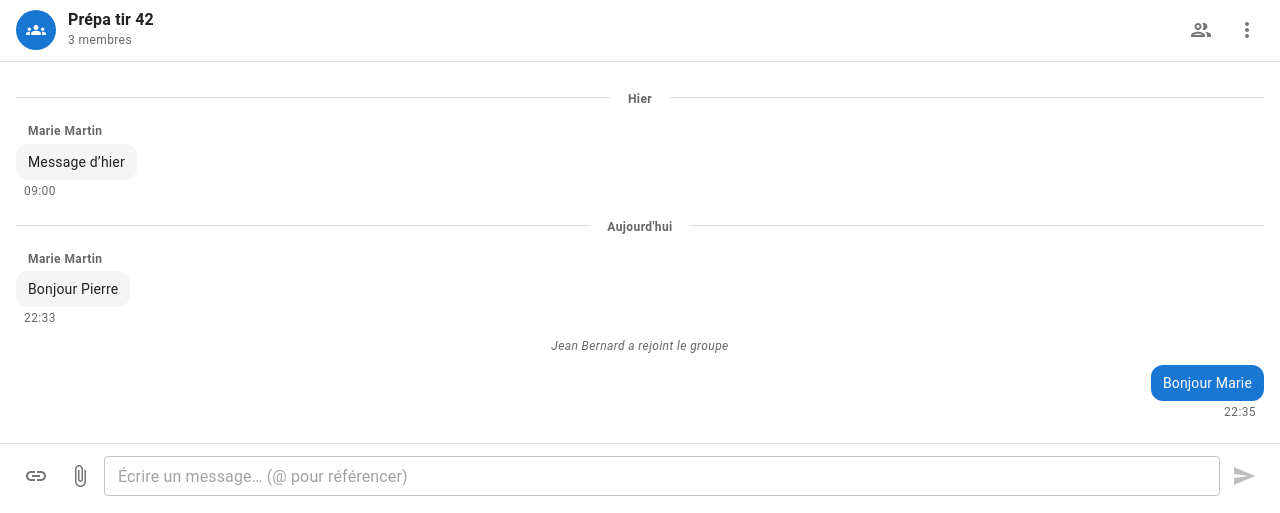
Test: ConversationThread › propriétaire d’un groupe : menu Renommer / Quitter / Supprimer, sous-titre « N membres »
This screenshot has width=1280, height=513.
expect the heading "Prépa tir 42" is shown: met, box [68,10,154,29]
expect the text "3 membres" is shown: met, box [68,33,132,47]
Click the button named "Actions de la conversation": [1247, 30] box [1230,13,1264,47]
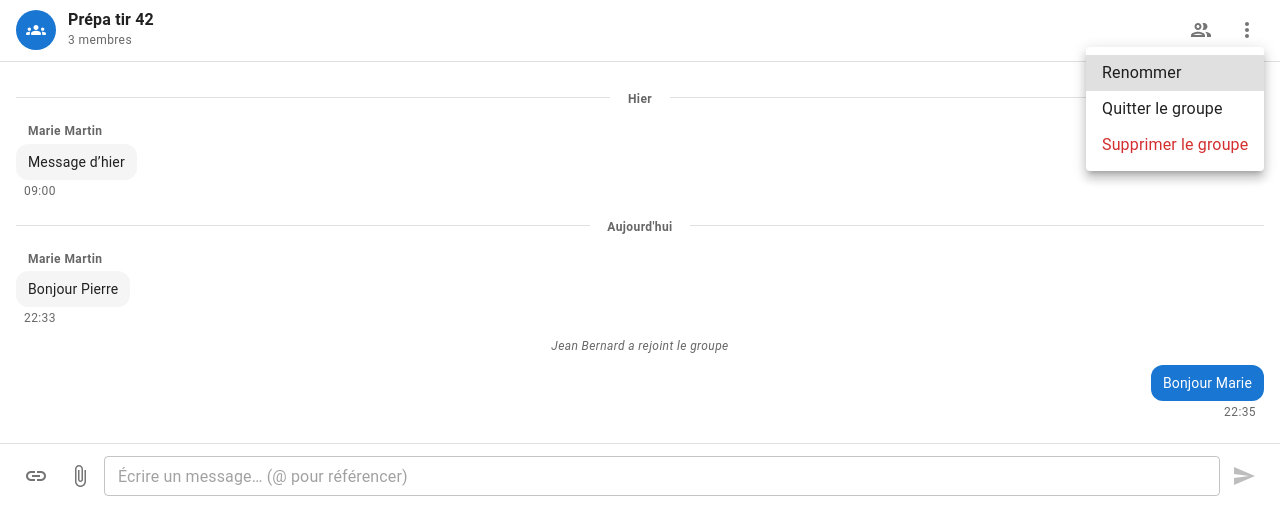
expect the menu item "Renommer" is shown: met, box [1086,55,1264,91]
expect the menu item "Quitter le groupe" is shown: met, box [1102,99,1223,118]
expect the menu item "Supprimer le groupe" is shown: met, box [1102,135,1248,154]
